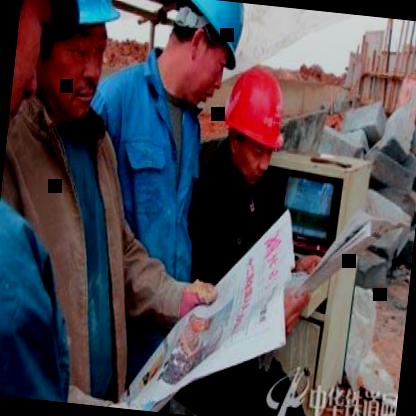helmet: (144, 0, 250, 123), (34, 0, 128, 125), (210, 54, 296, 190), (6, 0, 87, 141)
